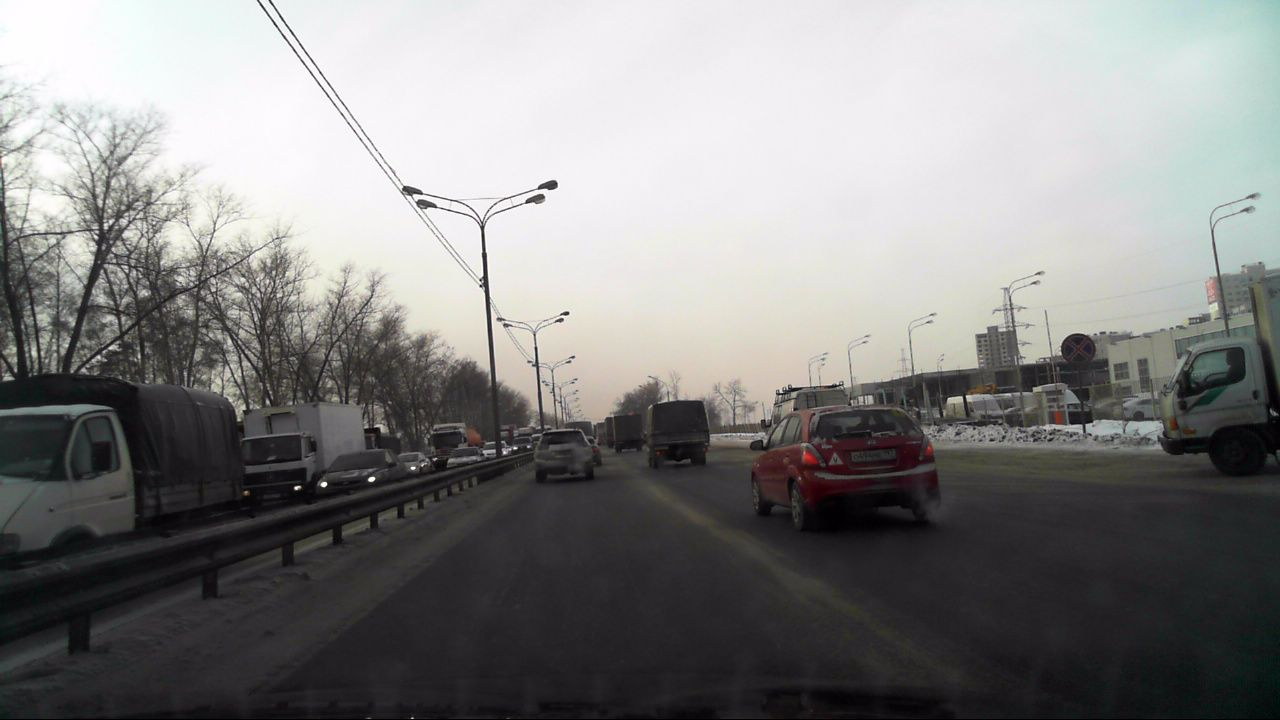No Parking: (1061, 332, 1095, 365)
